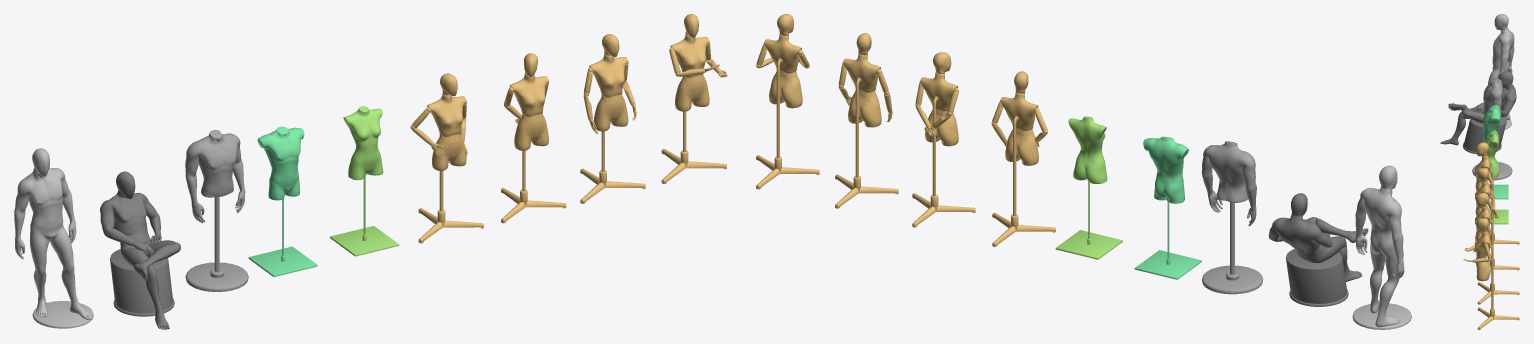
Rendered from Mannequins.fbx.
3 renders of one model, left to right at view 1: azimuth 30°, elevation 25°; view 2: azimuth 150°, elevation 25°; view 3: azimuth 270°, elevation 25°, orthographic. The views are drawn at different scales.
Parts seen in each view (by area): view 1: Mannequin_3_3, Mannequin_3_1, Mannequin_3_2, Mannequin_1_2, Mannequin_1_1, Mannequin_1_3, Mannequin_2_1, Mannequin_1_4, Mannequin_2_2; view 2: Mannequin_3_3, Mannequin_3_1, Mannequin_3_2, Mannequin_1_2, Mannequin_1_1, Mannequin_1_4, Mannequin_1_3, Mannequin_2_1, Mannequin_2_2; view 3: Mannequin_3_3, Mannequin_1_3, Mannequin_3_1, Mannequin_1_2, Mannequin_3_2, Mannequin_2_1, Mannequin_1_4, Mannequin_2_2, Mannequin_1_1.
Boxes of the visible parts, x1,y1,x2,y2 form: Mannequin_3_3: [100, 171, 180, 329]; Mannequin_3_1: [14, 148, 93, 328]; Mannequin_3_2: [185, 129, 248, 291]; Mannequin_1_2: [580, 34, 645, 203]; Mannequin_1_1: [410, 73, 483, 243]; Mannequin_1_3: [661, 14, 727, 183]; Mannequin_2_1: [248, 126, 317, 276]; Mannequin_1_4: [501, 53, 566, 223]; Mannequin_2_2: [330, 106, 399, 256]; Mannequin_3_3: [1268, 193, 1368, 306]; Mannequin_3_1: [1352, 165, 1411, 329]; Mannequin_3_2: [1201, 141, 1263, 294]; Mannequin_1_2: [835, 33, 898, 208]; Mannequin_1_1: [991, 71, 1055, 246]; Mannequin_1_4: [912, 52, 975, 227]; Mannequin_1_3: [756, 14, 819, 189]; Mannequin_2_1: [1134, 136, 1201, 279]; Mannequin_2_2: [1055, 116, 1122, 259]; Mannequin_3_3: [1440, 71, 1516, 154]; Mannequin_1_3: [1463, 218, 1519, 329]; Mannequin_3_1: [1488, 14, 1514, 129]; Mannequin_1_2: [1473, 193, 1519, 304]; Mannequin_3_2: [1472, 78, 1512, 180]; Mannequin_2_1: [1476, 105, 1508, 199]; Mannequin_1_4: [1475, 168, 1519, 271]; Mannequin_2_2: [1484, 130, 1508, 224]; Mannequin_1_1: [1475, 142, 1519, 244].
Bounding box in the file's own units: 782 × 183 × 122.
